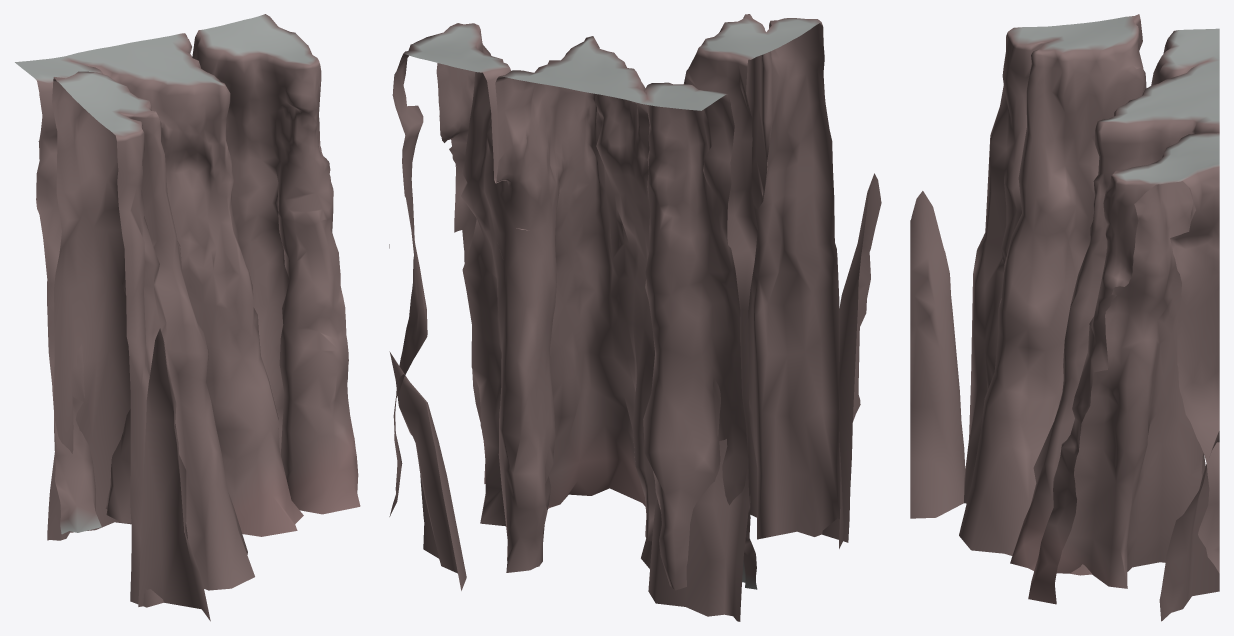
3 views of the same model, side by side, from view 1: azimuth 30°, elevation 25°; view 2: azimuth 150°, elevation 25°; view 3: azimuth 270°, elevation 25° (orthographic). The views are drawn at different scales.
Visible parts, largest first — view 1: G:\FFXIV-MapTools\exports\u5f1\bg\ex4\04_uvs_u5\fld\u5f1\bgp (×8); view 2: G:\FFXIV-MapTools\exports\u5f1\bg\ex4\04_uvs_u5\fld\u5f1\bgp (×7); view 3: G:\FFXIV-MapTools\exports\u5f1\bg\ex4\04_uvs_u5\fld\u5f1\bgp (×9).
Boxes of the visible parts, x1,y1,x2,y2 form: G:\FFXIV-MapTools\exports\u5f1\bg\ex4\04_uvs_u5\fld\u5f1\bgp (×8): (34,14,360,621); G:\FFXIV-MapTools\exports\u5f1\bg\ex4\04_uvs_u5\fld\u5f1\bgp (×7): (389,15,881,621); G:\FFXIV-MapTools\exports\u5f1\bg\ex4\04_uvs_u5\fld\u5f1\bgp (×9): (910,14,1219,621).
Bounding box in the file's own units: 128 × 223 × 128.
